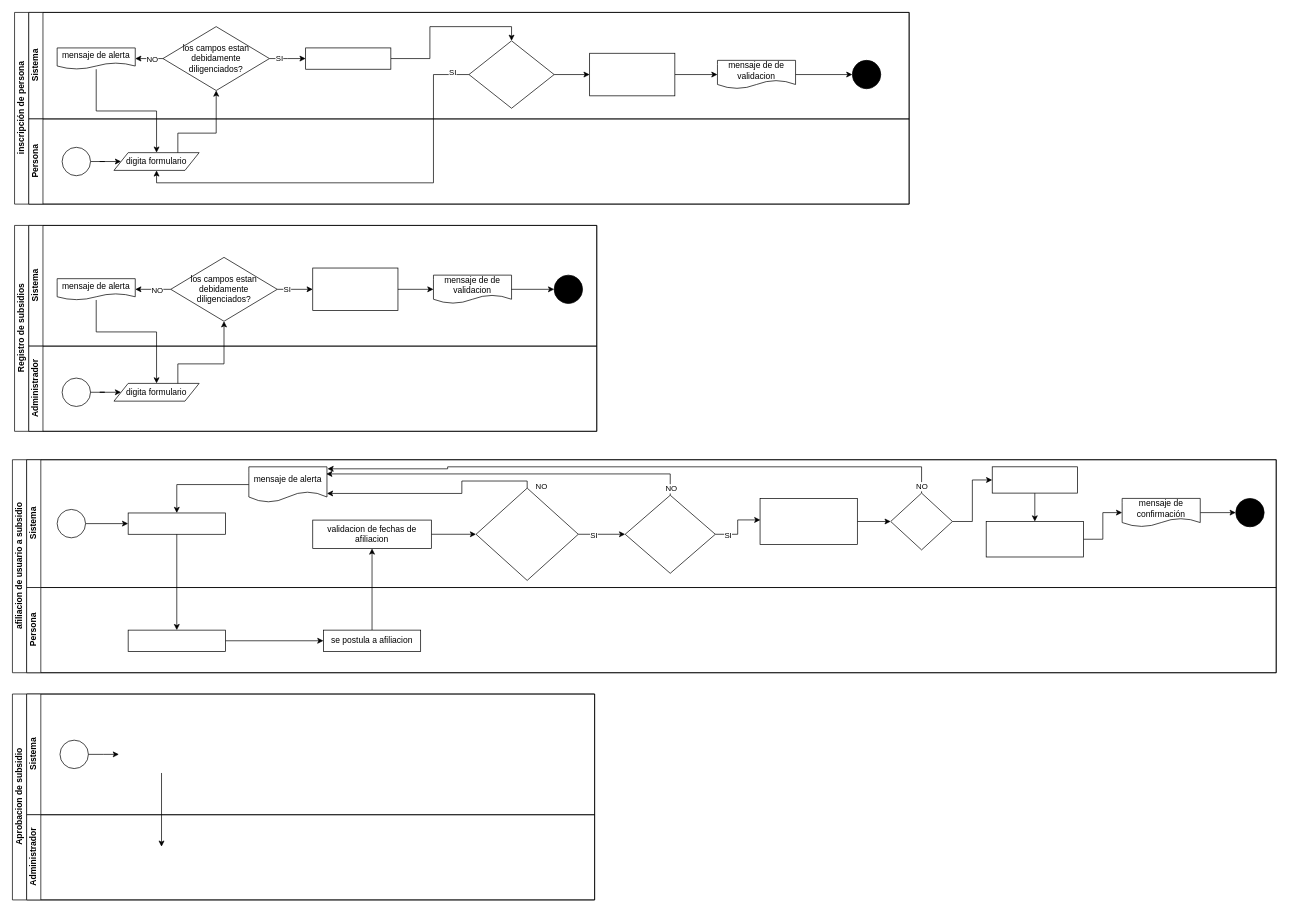
This 1289x912 diagram has some shape labels left out. The centre of each missing label's shape, as x and y in pixels:
el usuairo esta afiliado mas de un subsidio subsidios: point 669,534
existe un usuario registrado con las mismas credenciales?: point 511,74
ingresa en db los datos: point 355,289
las solicitud de afiliación es realizada dentro de fechas validas: point 526,533
realiza registro de usuario: point 632,74
se establese estado de afiliacion como "pendiente": point 1034,539
se realiza afiliacio del usuario al subsidio: point 1034,479
se visualiza listado de subsidios: point 176,523
selecciona el subsidio de interes: point 176,640
valida usuario en base de datos: point 348,58
validacion de informacion de usuario respecto a los requisitos del subsidio: point 808,521
validacion exitosa: point 921,521
